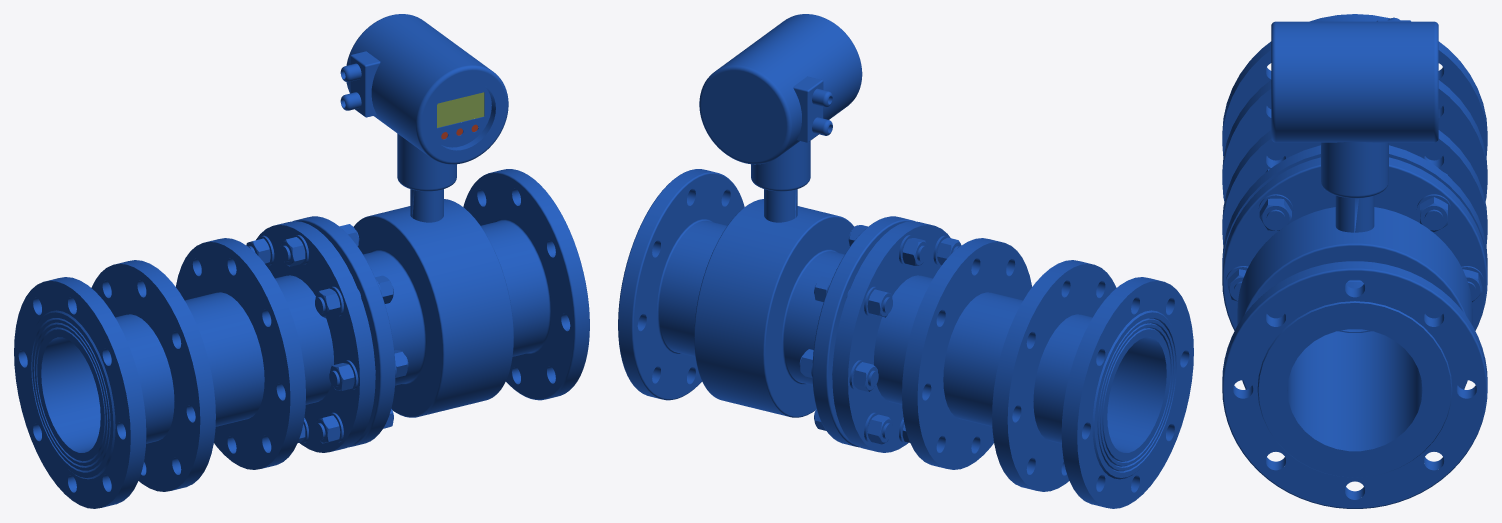
File: 电磁流量计+伸缩节.glb
3 renders of one model, left to right at view 1: azimuth 30°, elevation 25°; view 2: azimuth 150°, elevation 25°; view 3: azimuth 270°, elevation 25°, orthographic. The views are drawn at different scales.
Visible parts, largest first — view 1: 电磁流量计加伸缩节.SLDPRT; view 2: 电磁流量计加伸缩节.SLDPRT; view 3: 电磁流量计加伸缩节.SLDPRT.
Part boxes in pixels (x1,y1,x2,y2): 电磁流量计加伸缩节.SLDPRT: [14, 14, 589, 508]; 电磁流量计加伸缩节.SLDPRT: [618, 14, 1193, 508]; 电磁流量计加伸缩节.SLDPRT: [1222, 14, 1487, 508].
Size of the model in its own units: 0.652 by 0.5025 by 0.285.
